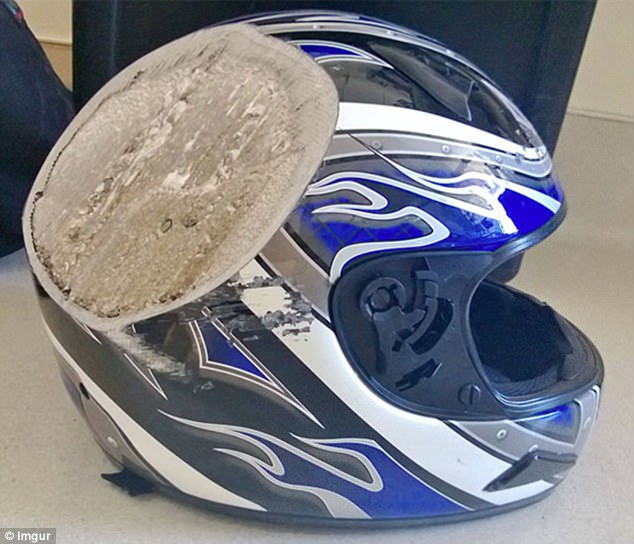with_helmet: (15, 13, 613, 537)
